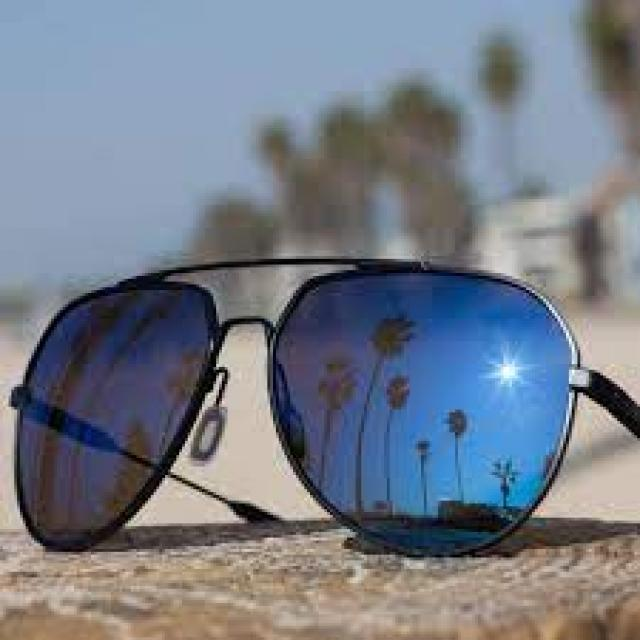suspicious-objects: (5, 249, 608, 562)
